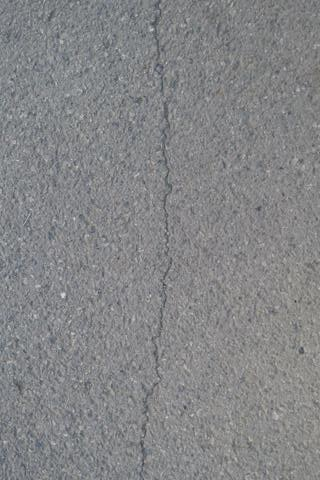A: (136, 1, 175, 480)
